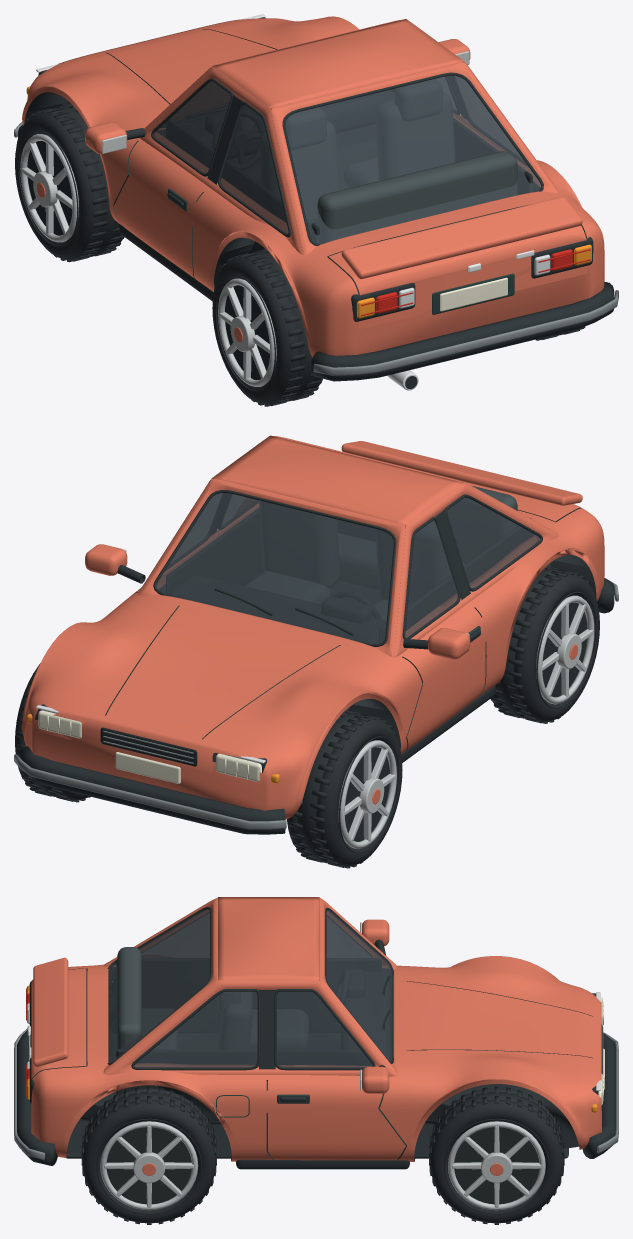
The model's file is comet.fbx.
3 renders of one model, top to bottom at view 1: azimuth 30°, elevation 25°; view 2: azimuth 150°, elevation 25°; view 3: azimuth 270°, elevation 25°, orthographic. The views are drawn at different scales.
Visible parts, largest first — view 1: Body, Wheel_RL_Mesh, Wheel_FL_Mesh; view 2: Body, Wheel_FL_Mesh, Wheel_RL_Mesh, Wheel_FR_Mesh; view 3: Body, Wheel_FR_Mesh, Wheel_RR_Mesh.
Part boxes in pixels (x1,y1,x2,y2): Body: (14, 14, 618, 390); Wheel_RL_Mesh: (212, 249, 322, 406); Wheel_FL_Mesh: (15, 104, 124, 262); Body: (14, 435, 618, 834); Wheel_FL_Mesh: (287, 710, 402, 868); Wheel_RL_Mesh: (490, 566, 599, 723); Wheel_FR_Mesh: (15, 664, 90, 802); Body: (14, 897, 618, 1169); Wheel_FR_Mesh: (429, 1086, 564, 1224); Wheel_RR_Mesh: (81, 1086, 216, 1224).
Size of the model in its own units: 232 by 153 by 369.
